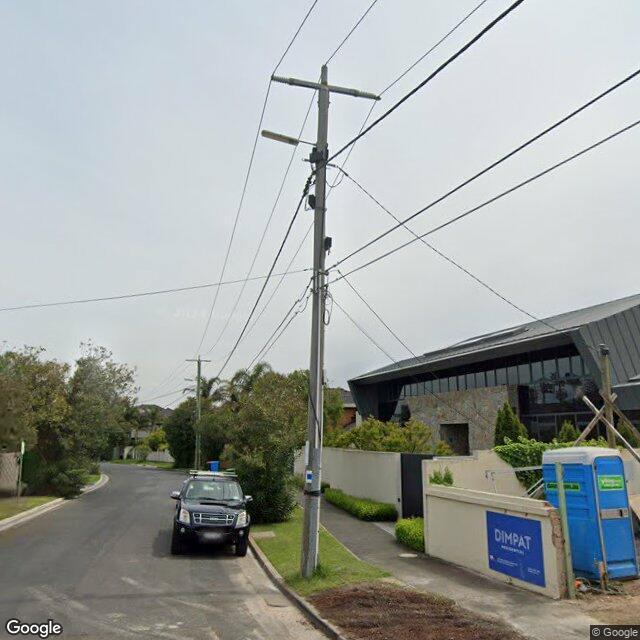HV-transmission: (270, 64, 382, 101), (184, 355, 212, 363)
crossarm: (290, 77, 358, 96), (193, 359, 206, 362)
streetlight: (261, 129, 317, 146), (185, 378, 198, 382)
timber-pole: (298, 82, 329, 580), (194, 359, 202, 470)
